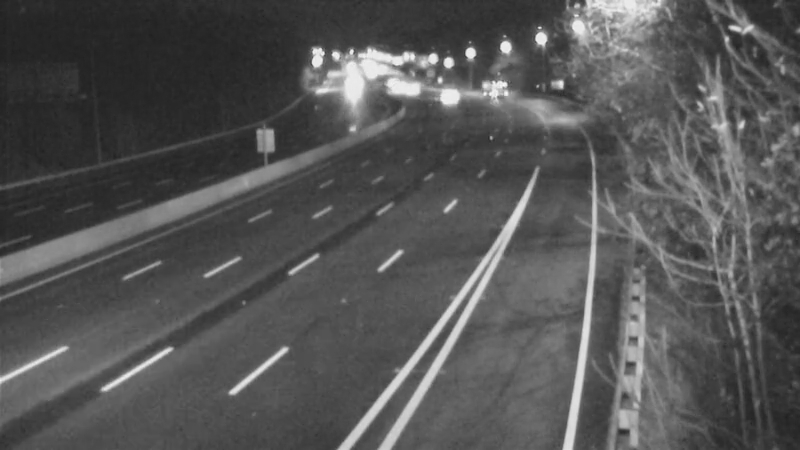vehicle: (471, 61, 521, 111), (424, 72, 474, 122), (328, 66, 378, 116)
